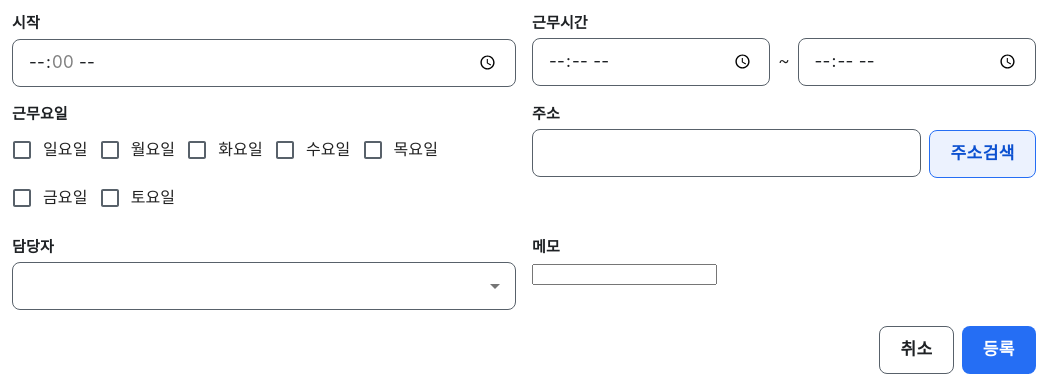
Test: extra field types › address uses Daum postcode when the host loaded it
This screenshot has width=1048, height=391.
Click the button "주소검색": click(983, 154) top-left (930, 130), bottom-right (1036, 178)
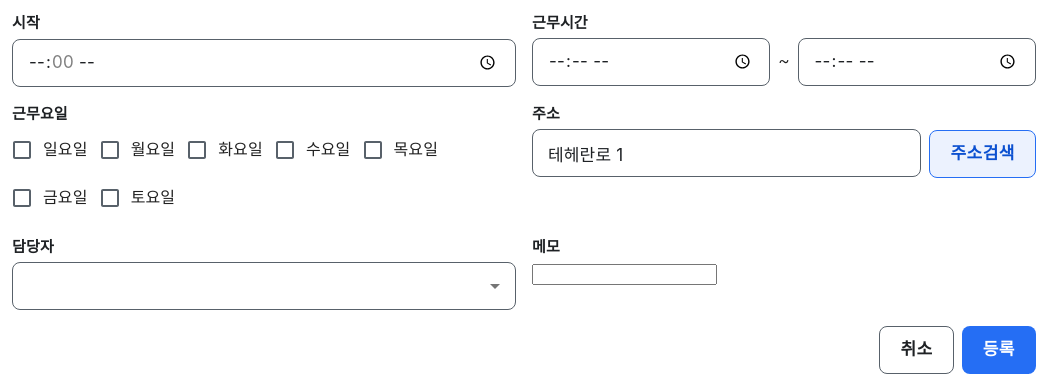
Expected: the field labelled "주소" holds "테헤란로 1", top-left (532, 129), bottom-right (922, 177)
